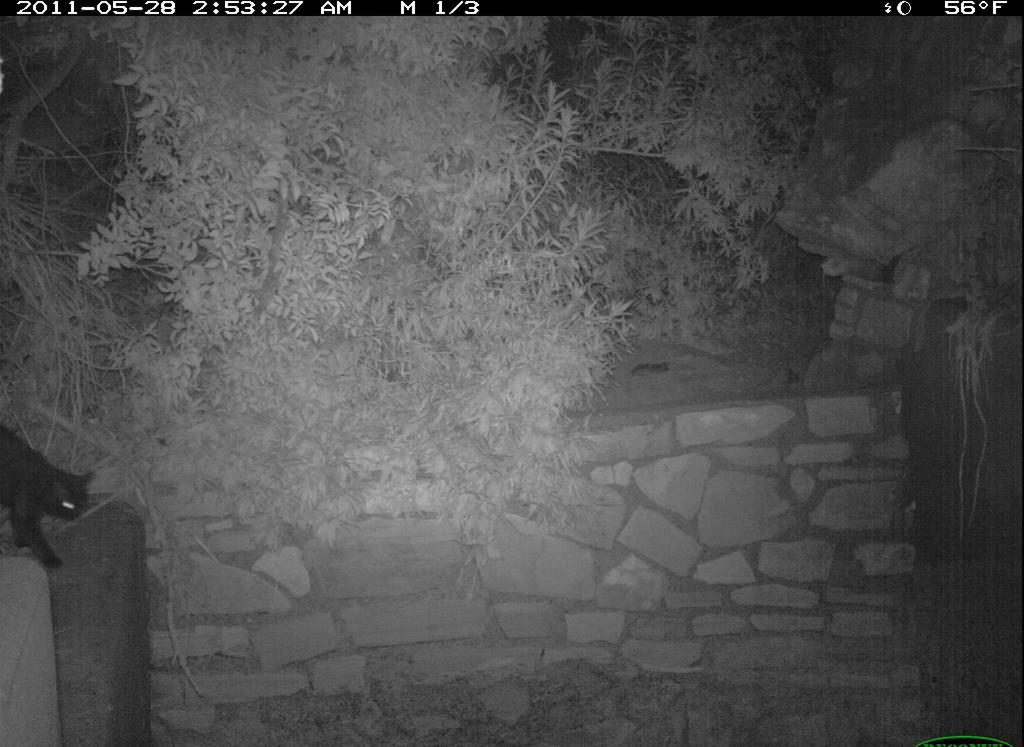cat: (2, 408, 98, 602)
